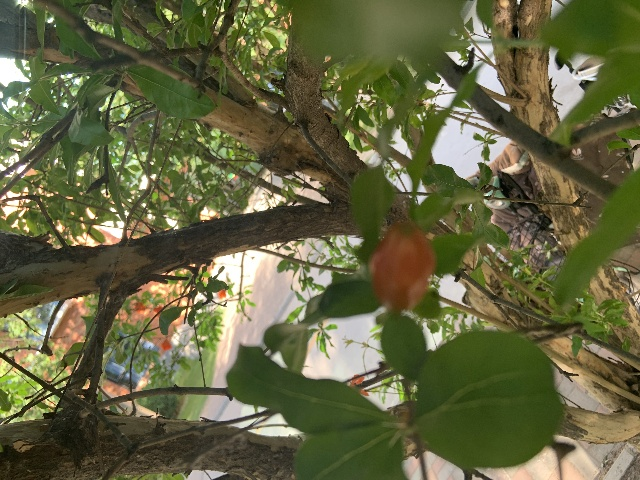bud: (369, 221, 434, 312)
flower: (348, 374, 369, 396), (134, 302, 146, 313), (153, 306, 163, 317), (160, 340, 171, 350), (217, 289, 226, 299)
